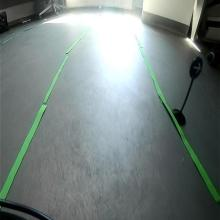right: (189, 54, 204, 78)
